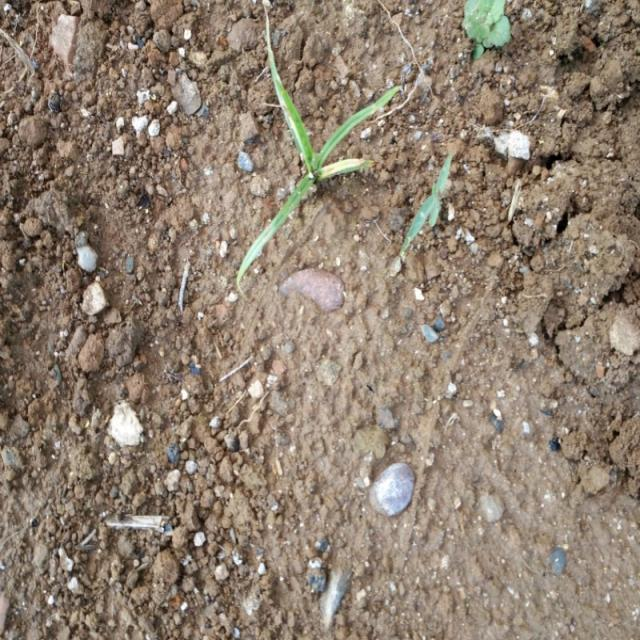sedge: (198, 54, 465, 324)
